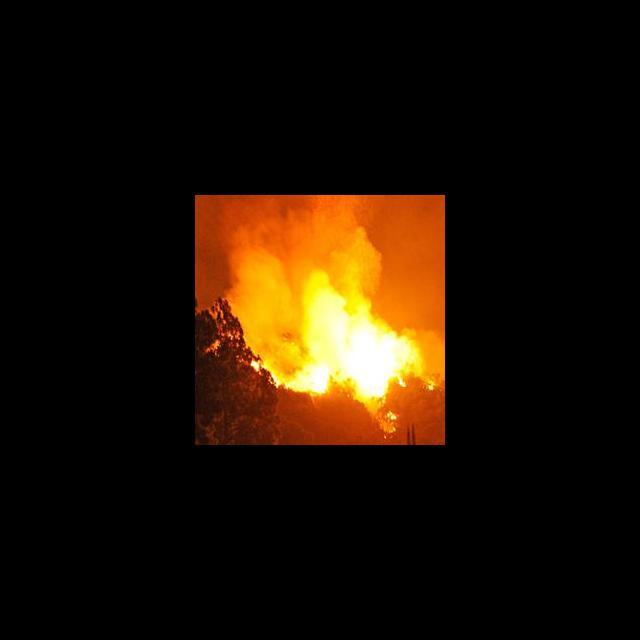Fire: (249, 296, 417, 404)
